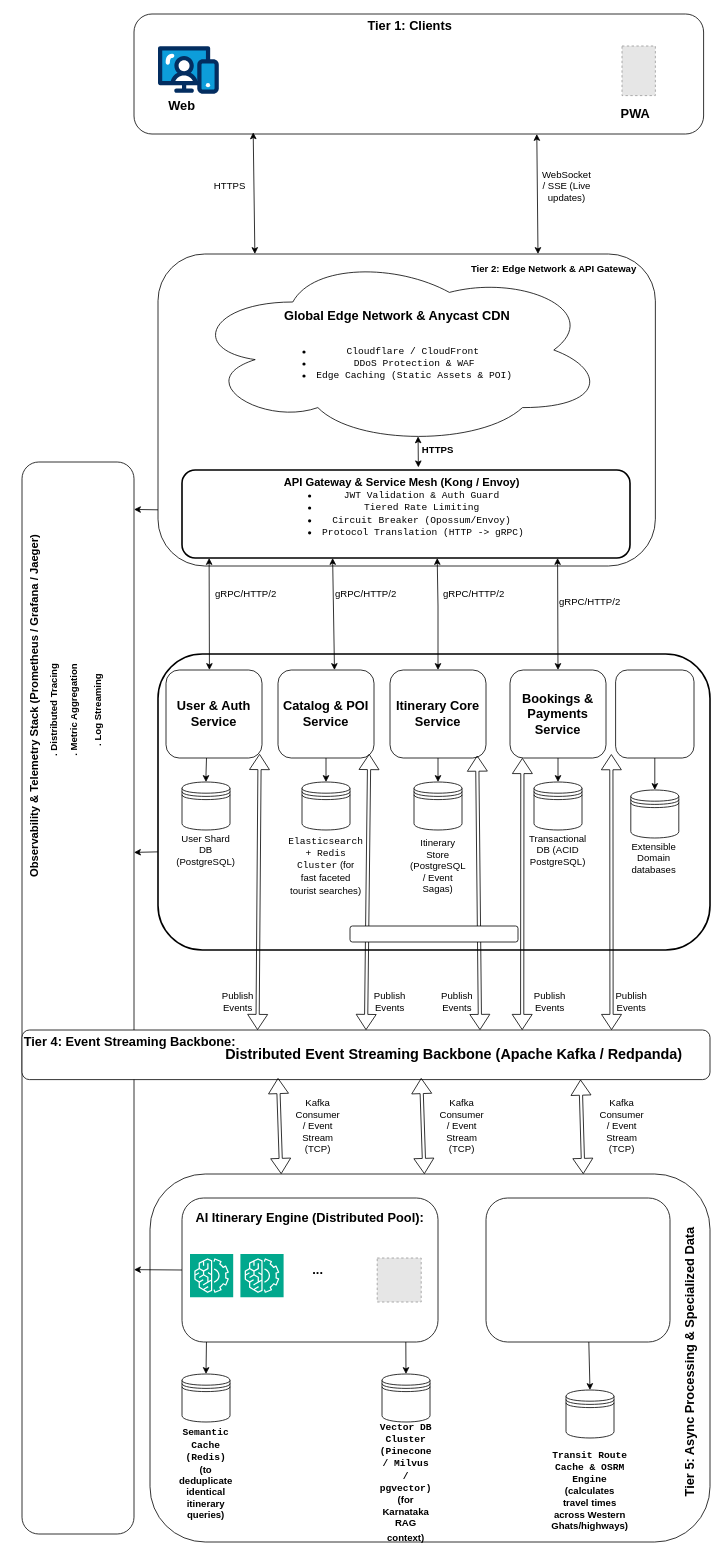
This 724x1557 diagram has some shape labels left out. Grey dashed boxes stand in for pictures. Each missing label, with the centre of its shape:
"Extensible Domain" goes at point (654, 713).
"Tier 3: Core Microservices" goes at point (433, 933).
"Transit & GIS Engine:" goes at point (577, 1269).
